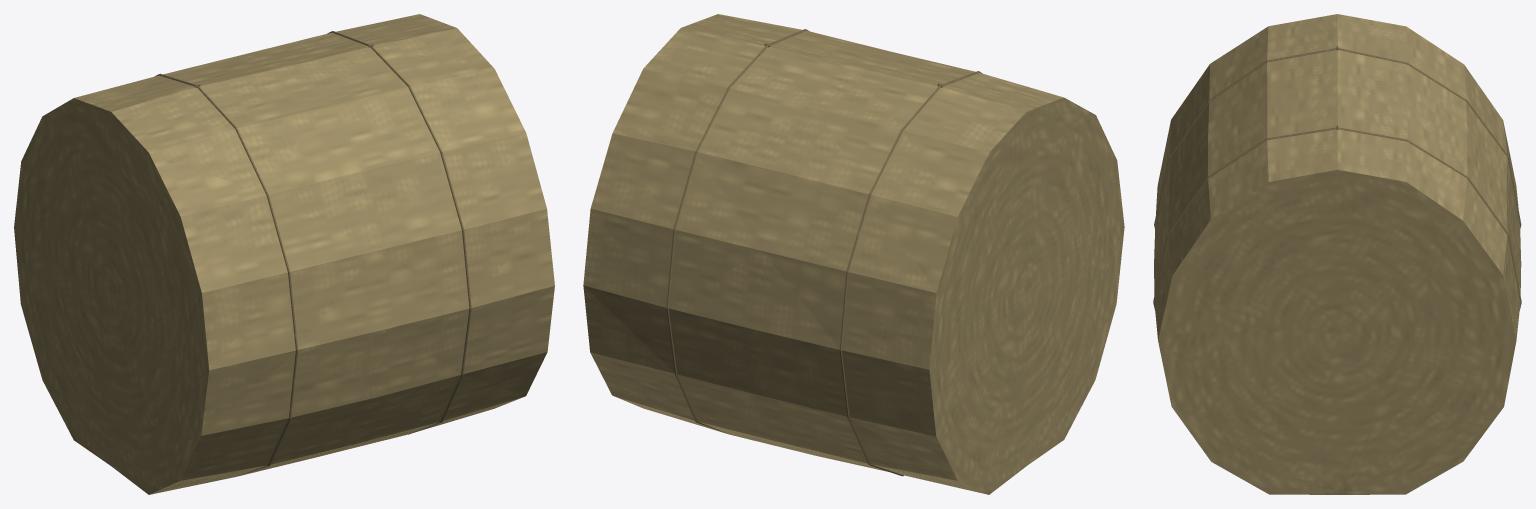
The model's file is farmland_hay_bale_round.glb.
3 views of the same model, side by side, from view 1: azimuth 30°, elevation 25°; view 2: azimuth 150°, elevation 25°; view 3: azimuth 270°, elevation 25° (orthographic). The views are drawn at different scales.
Parts seen in each view (by area): view 1: HayBaleRound; view 2: HayBaleRound; view 3: HayBaleRound.
Part boxes in pixels (left/top/right/bottom): HayBaleRound: left=14, top=14, right=554, bottom=494; HayBaleRound: left=583, top=14, right=1124, bottom=494; HayBaleRound: left=1153, top=14, right=1521, bottom=494.
Size of what is drawn, in the model's own units: 1.2 by 1.21 by 1.2.
Materials: 1 (1 with a texture image).
